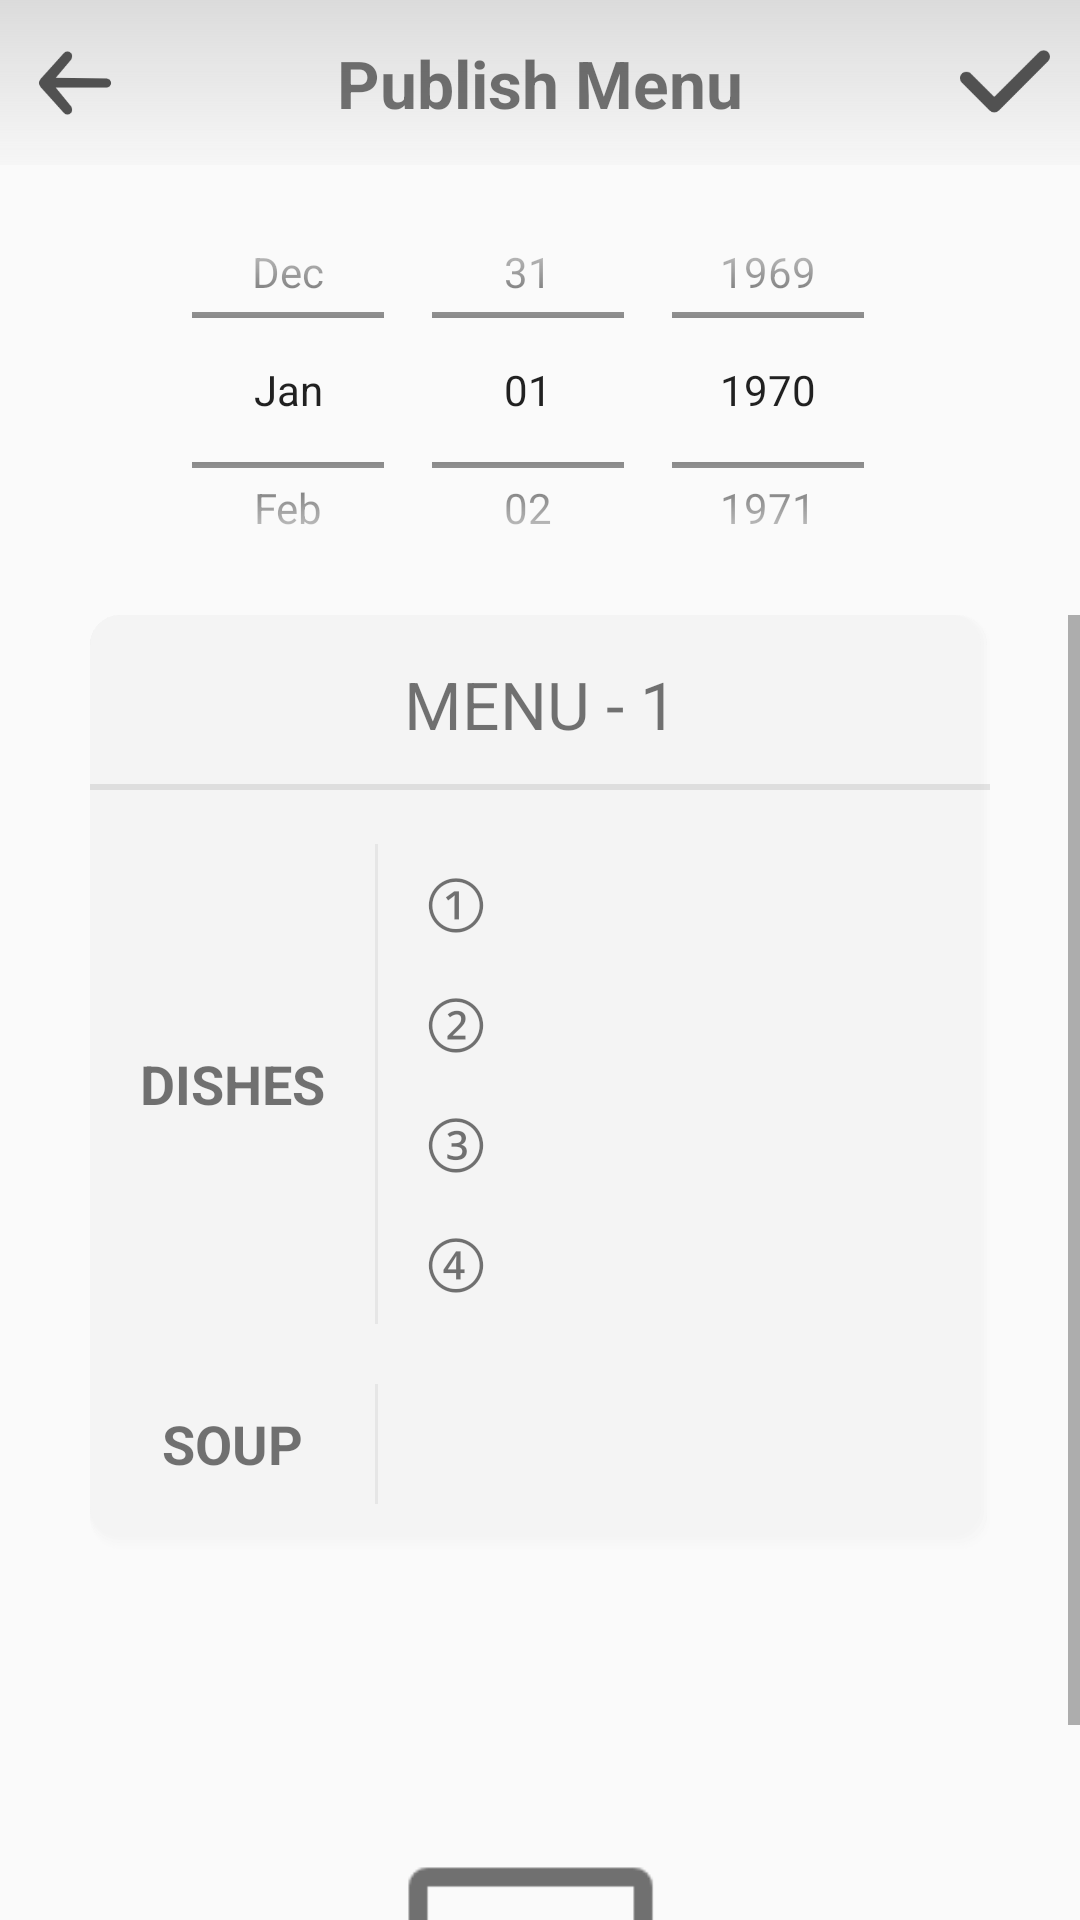

Named icons in this screenshot (1080 × 1920) and their centers, (x=x, y=y):
back: (x=75, y=83)
yes: (x=1005, y=81)
